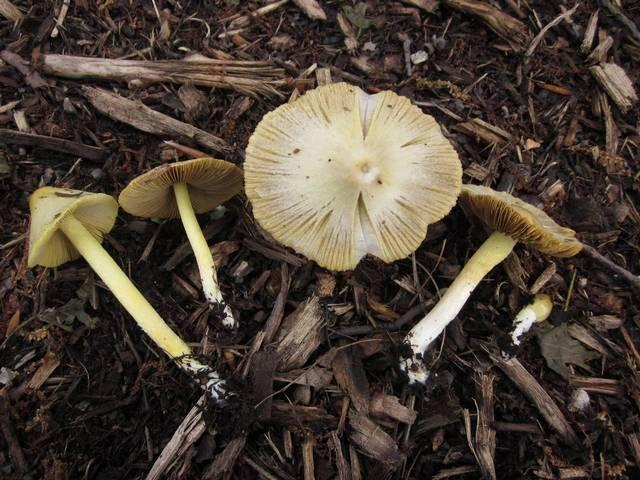Edible Mushroom: (25, 184, 239, 412), (242, 80, 463, 272), (396, 182, 583, 386), (117, 156, 244, 330)
